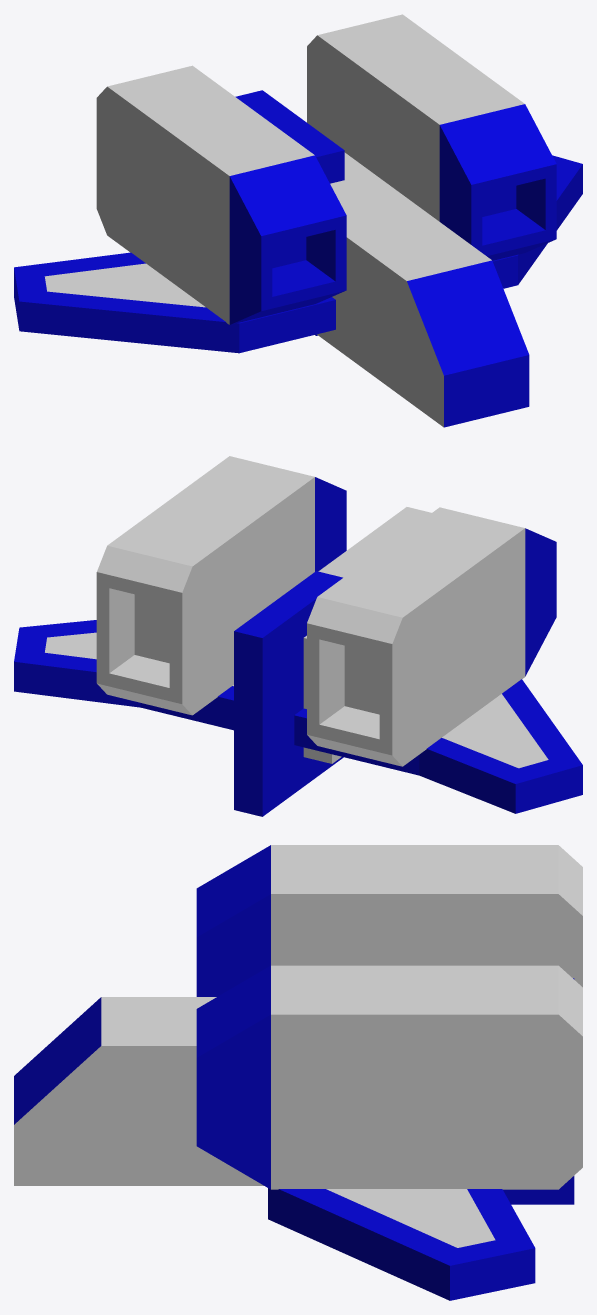
File: SM_StgPlayer.fbx
3 views of the same model, one above another, from view 1: azimuth 30°, elevation 25°; view 2: azimuth 150°, elevation 25°; view 3: azimuth 270°, elevation 25° (orthographic). The views are drawn at different scales.
Visible parts, largest first — view 1: SM_StgPlayer; view 2: SM_StgPlayer; view 3: SM_StgPlayer.
Part boxes in pixels (<box>): SM_StgPlayer: <box>14,14,582,427</box>; SM_StgPlayer: <box>14,456,582,816</box>; SM_StgPlayer: <box>14,845,582,1300</box>.
Size of the model in its own units: 1.98 by 0.7614 by 1.47.
